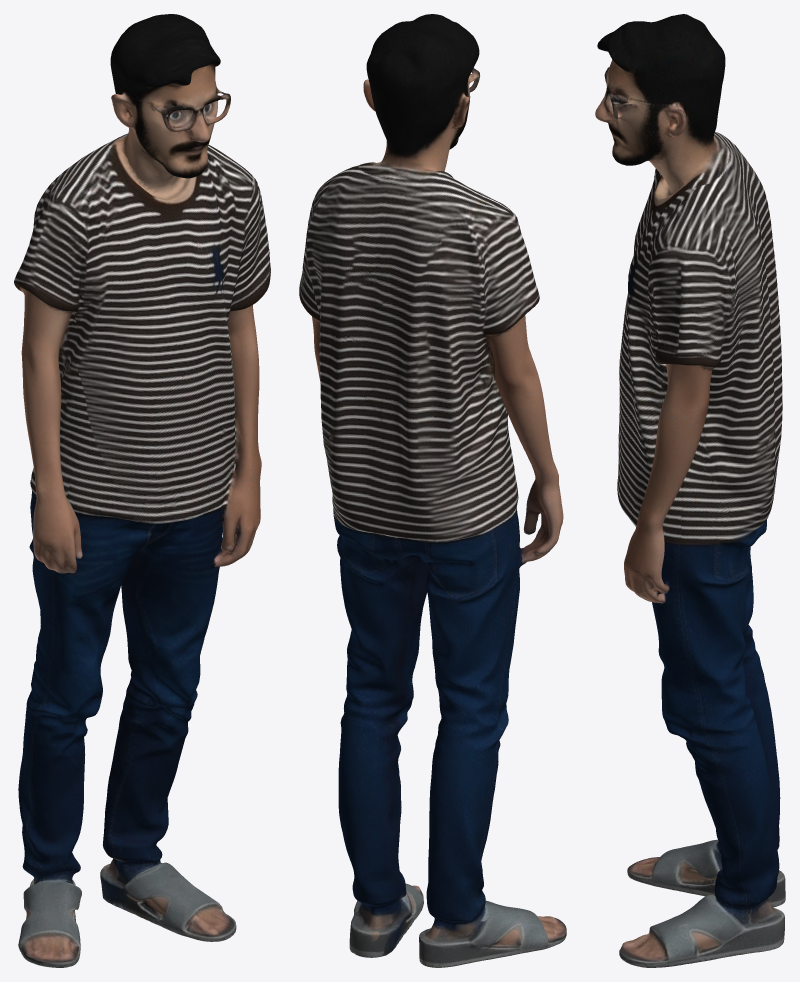
Rendered from avatar.glb.
The picture shows the model from 3 angles, left to right: view 1: azimuth 30°, elevation 25°; view 2: azimuth 150°, elevation 25°; view 3: azimuth 270°, elevation 25°; orthographic projection. The views are drawn at different scales.
Parts seen in each view (by area): view 1: Meshy_AI_Striped_Shirt_Portrait_20261118_texture; view 2: Meshy_AI_Striped_Shirt_Portrait_20261118_texture; view 3: Meshy_AI_Striped_Shirt_Portrait_20261118_texture.
Boxes of the visible parts, x1,y1,x2,y2 form: Meshy_AI_Striped_Shirt_Portrait_20261118_texture: [14, 14, 270, 967]; Meshy_AI_Striped_Shirt_Portrait_20261118_texture: [299, 14, 566, 967]; Meshy_AI_Striped_Shirt_Portrait_20261118_texture: [595, 14, 785, 967].
Bounding box in the file's own units: 0.642 × 2.2 × 0.4121.
1 material, 1 textured.
